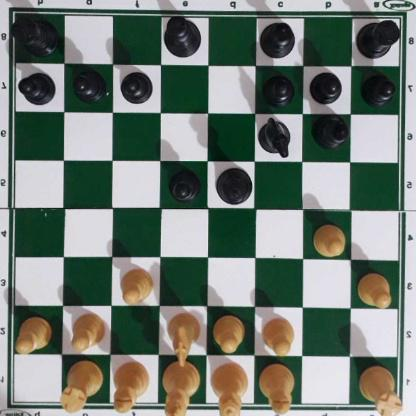black-bishop: (259, 19, 297, 57), (311, 114, 351, 149)
black-king: (164, 15, 200, 58)
black-knight: (260, 115, 292, 154)
black-pawn: (20, 69, 56, 105), (168, 167, 203, 202), (121, 68, 154, 103), (73, 68, 107, 101), (311, 69, 343, 104), (362, 72, 396, 104), (264, 71, 295, 105)
black-queen: (217, 166, 253, 204)
black-rook: (356, 15, 404, 58), (14, 10, 58, 55)
white-bishop: (114, 360, 151, 411), (262, 360, 295, 413)
white-king: (163, 359, 201, 415)
white-knight: (165, 310, 202, 365)
white-pawn: (69, 311, 107, 351), (16, 314, 53, 351), (262, 315, 296, 355), (312, 221, 349, 257), (121, 266, 156, 304), (358, 272, 394, 308), (214, 313, 247, 351)
white-queen: (211, 361, 250, 416)
white-rook: (59, 363, 104, 413), (361, 361, 401, 416)
